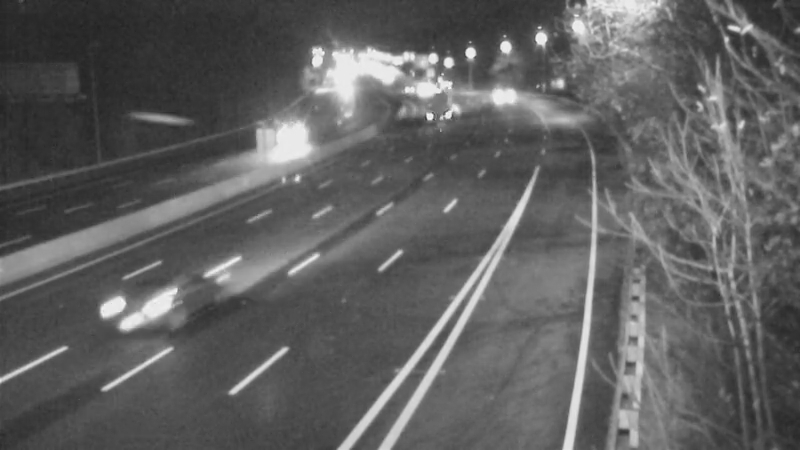vehicle: (74, 250, 184, 360), (474, 70, 524, 120), (406, 78, 456, 128), (267, 113, 317, 163)
